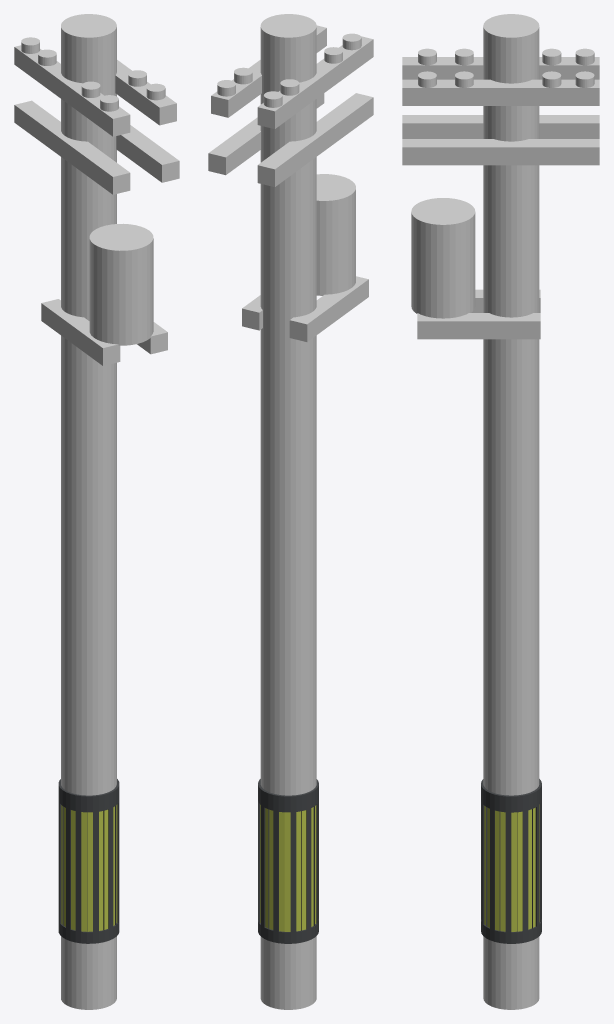
File: dentyu.fbx
The picture shows the model from 3 angles, left to right: view 1: azimuth 30°, elevation 25°; view 2: azimuth 150°, elevation 25°; view 3: azimuth 270°, elevation 25°; orthographic projection.
Parts seen in each view (by area): view 1: Cylinder, Cylinder.010, Cylinder.001, Cube.001, Cube, Cube.006, Cube.004, Cube.003, Cube.005; view 2: Cylinder, Cylinder.010, Cylinder.001, Cube.001, Cube, Cube.006, Cube.004, Cube.003, Cube.005; view 3: Cylinder, Cylinder.010, Cylinder.001, Cube.004, Cube.003, Cube.001, Cube.005, Cube.
Part boxes in pixels (left/top/right/bottom): Cylinder: left=61, top=14, right=116, bottom=1009; Cylinder.010: left=58, top=779, right=119, bottom=943; Cylinder.001: left=89, top=223, right=153, bottom=345; Cube.001: left=14, top=100, right=130, bottom=194; Cube: left=14, top=45, right=130, bottom=136; Cube.006: left=41, top=299, right=120, bottom=365; Cube.004: left=116, top=125, right=179, bottom=182; Cube.003: left=115, top=60, right=176, bottom=125; Cube.005: left=137, top=322, right=167, bottom=354; Cylinder: left=260, top=14, right=316, bottom=1009; Cylinder.010: left=258, top=779, right=318, bottom=943; Cylinder.001: left=316, top=174, right=355, bottom=295; Cube.001: left=257, top=93, right=373, bottom=186; Cube: left=257, top=36, right=373, bottom=128; Cube.006: left=289, top=276, right=368, bottom=341; Cube.004: left=208, top=93, right=324, bottom=175; Cube.003: left=211, top=25, right=326, bottom=117; Cube.005: left=242, top=295, right=262, bottom=330; Cylinder: left=483, top=14, right=539, bottom=1009; Cylinder.010: left=481, top=779, right=541, bottom=943; Cylinder.001: left=411, top=198, right=475, bottom=318; Cube.004: left=402, top=139, right=599, bottom=165; Cube.003: left=402, top=79, right=599, bottom=105; Cube.001: left=402, top=115, right=599, bottom=138; Cube.005: left=417, top=313, right=540, bottom=339; Cube: left=402, top=57, right=599, bottom=79.
Size of the model in its own units: 107 by 1436 by 264.
